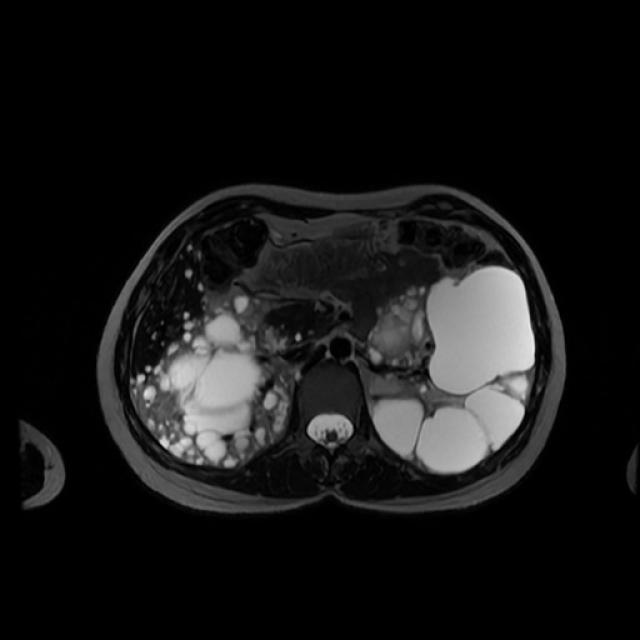sag: (137, 298, 298, 470)
sol: (367, 264, 535, 470)
